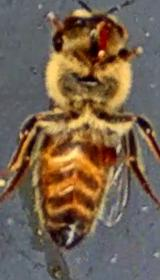varroa_mite: (90, 136, 128, 171)
